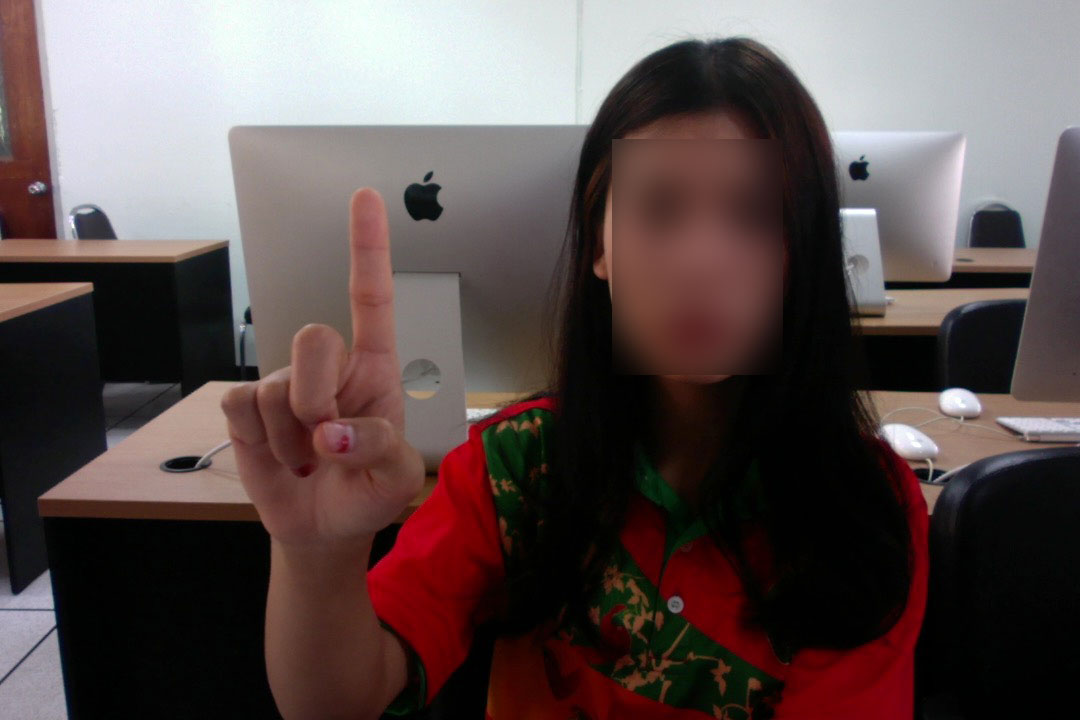dor: (203, 171, 431, 545)
